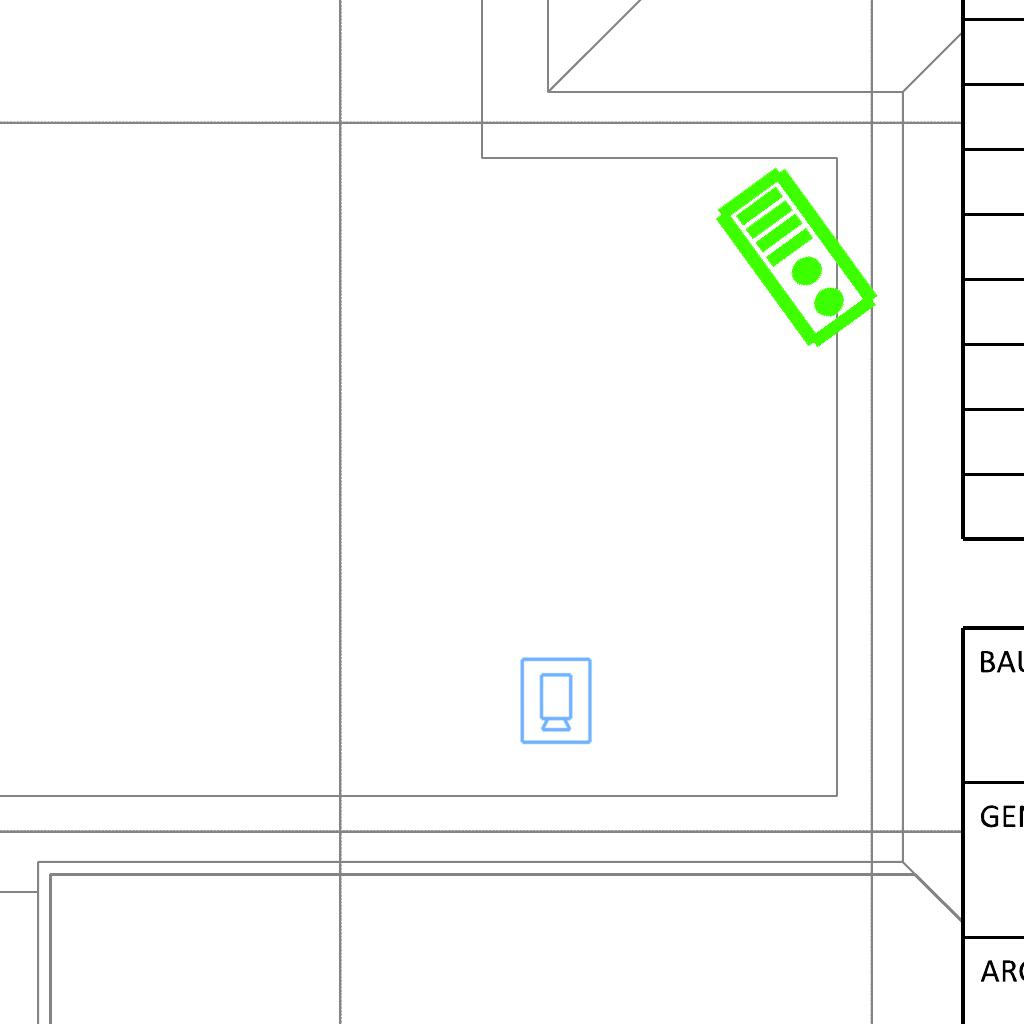Gegensprechanlage_mit_Video: (708, 157, 889, 357)
KFO_Kamera_mit_Festobjektiv: (517, 655, 594, 746)
